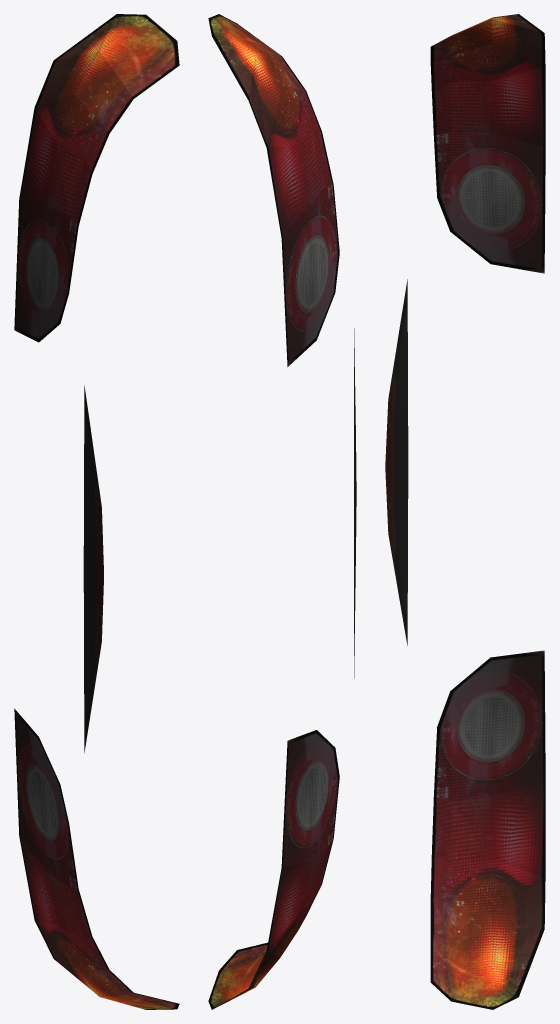
The model's file is brakes_on.obj.
3 renders of one model, left to right at view 1: azimuth 30°, elevation 25°; view 2: azimuth 150°, elevation 25°; view 3: azimuth 270°, elevation 25°, orthographic.
Visible parts, largest first — view 1: baked; view 2: baked; view 3: baked.
Part boxes in pixels (x1,y1,x2,y2): baked: [14, 14, 179, 1009]; baked: [208, 14, 356, 1009]; baked: [385, 14, 545, 1009].
Size of the model in its own units: 0.1952 by 1.56 by 0.2291.
1 material, 1 textured.
